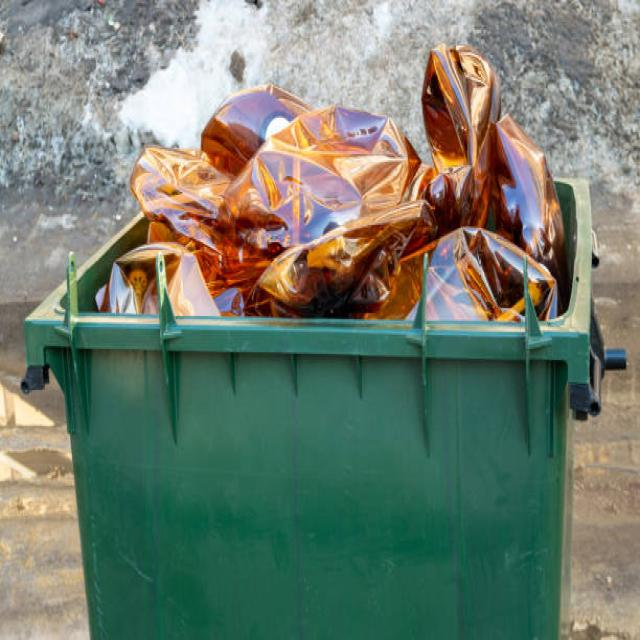plastic: (144, 69, 534, 308)
